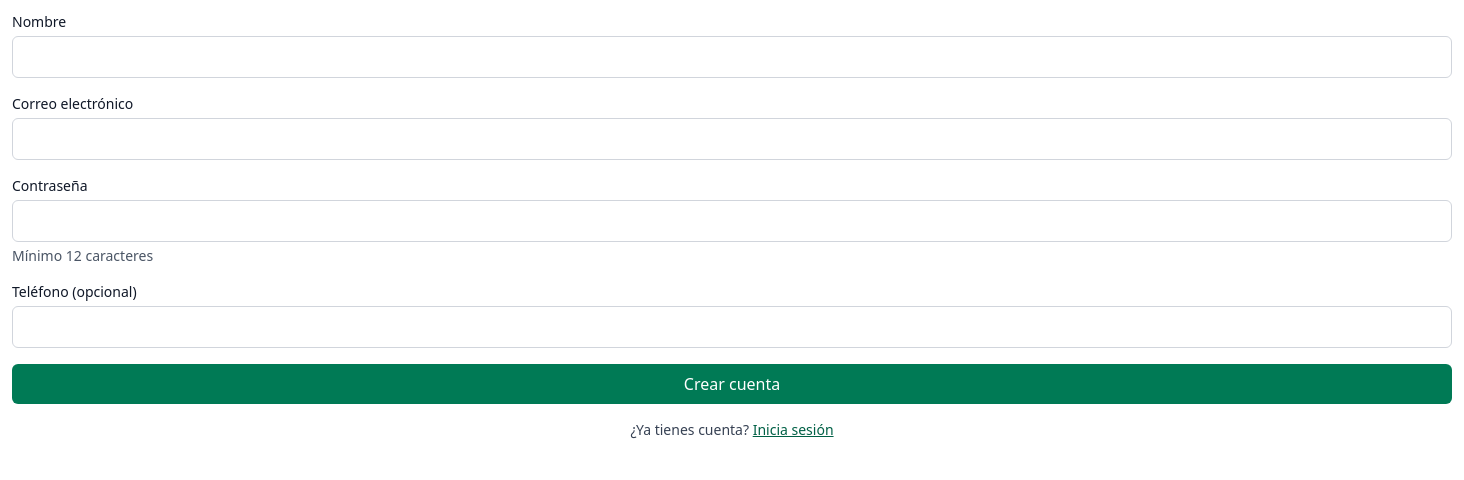
it: SignupForm › con el correo en uso no ofrece el reenvío
In the field labelled "Nombre": {"x": 732, "y": 57} x1=12 y1=36 x2=1452 y2=78, type "Alex Vecino"
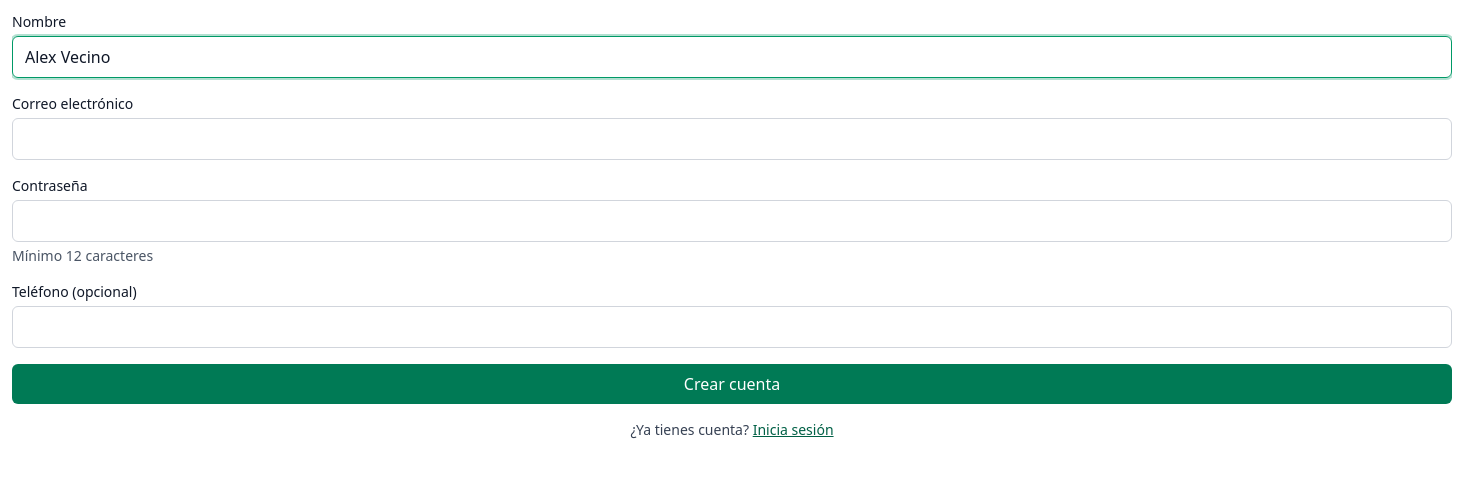
In the field labelled "Correo electrónico": {"x": 732, "y": 139} x1=12 y1=118 x2=1452 y2=160, type "vecino@example.com"
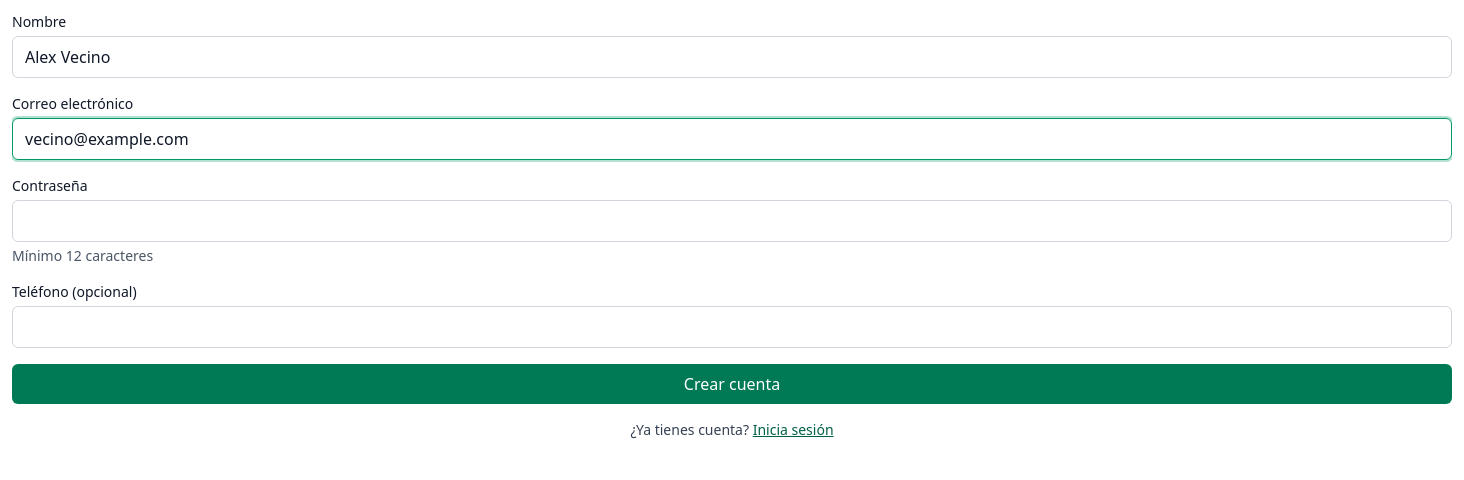
In the password field labelled "Contraseña": {"x": 732, "y": 221} x1=12 y1=200 x2=1452 y2=242, type "una-clave-cualquiera"
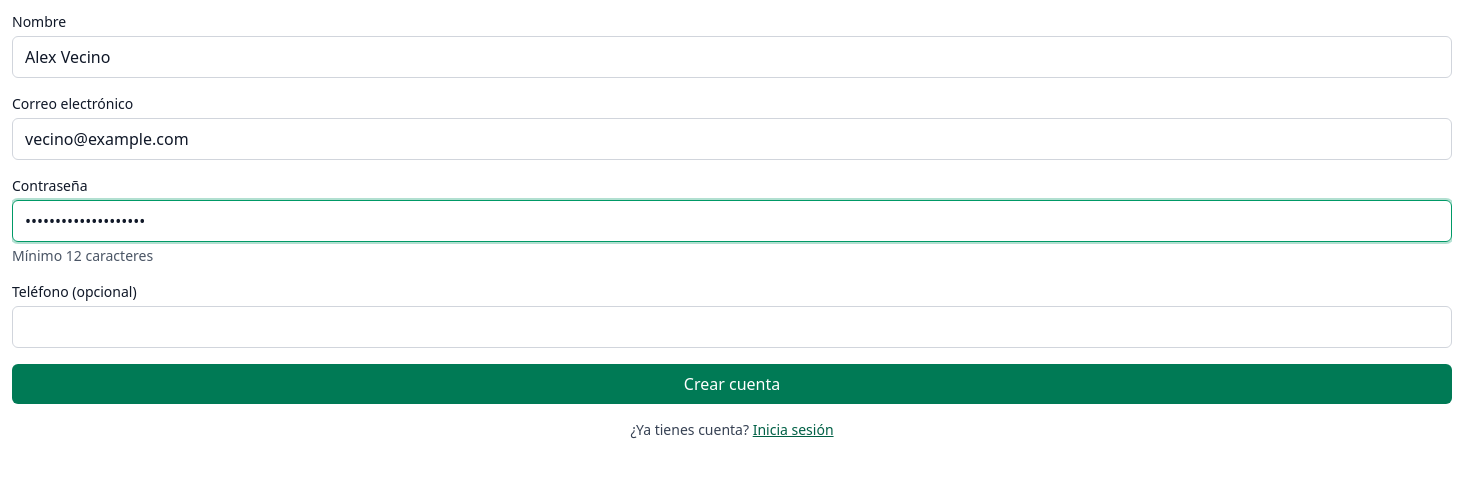
Click the button "Crear cuenta": {"x": 732, "y": 384} x1=12 y1=364 x2=1452 y2=404
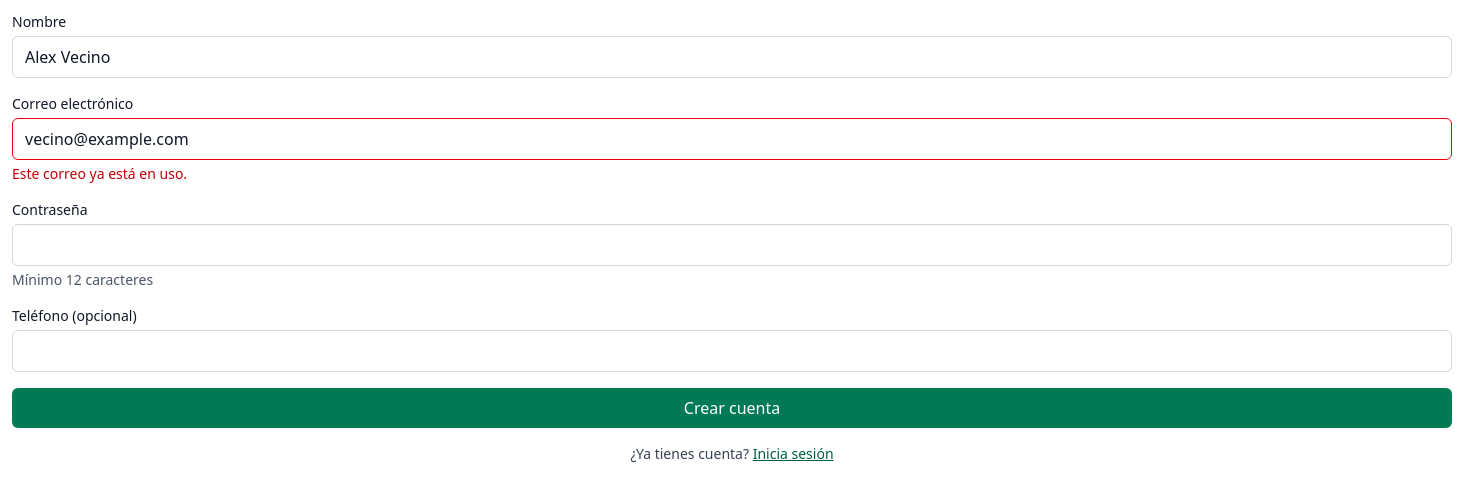
Expected: the text "Este correo ya está en uso." is shown, x1=12 y1=164 x2=187 y2=183
